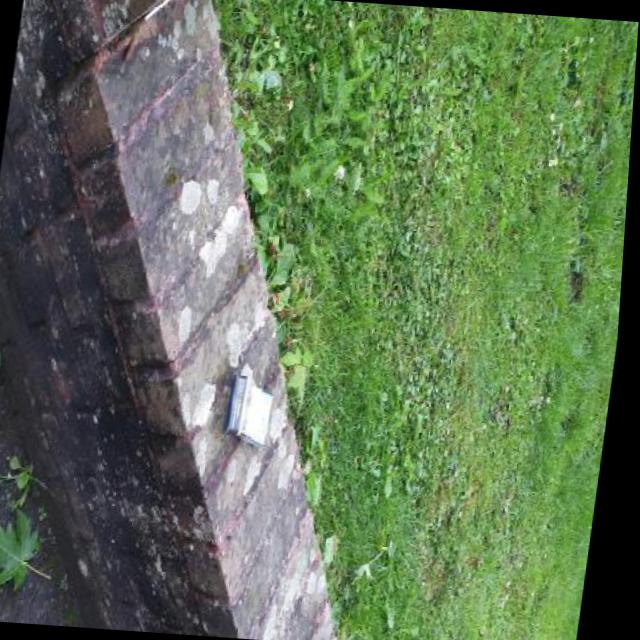cardboard: (218, 373, 274, 447)
